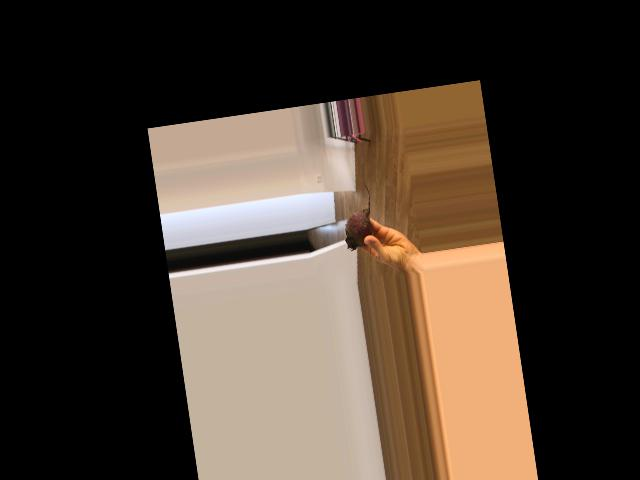beet: (337, 182, 377, 250)
